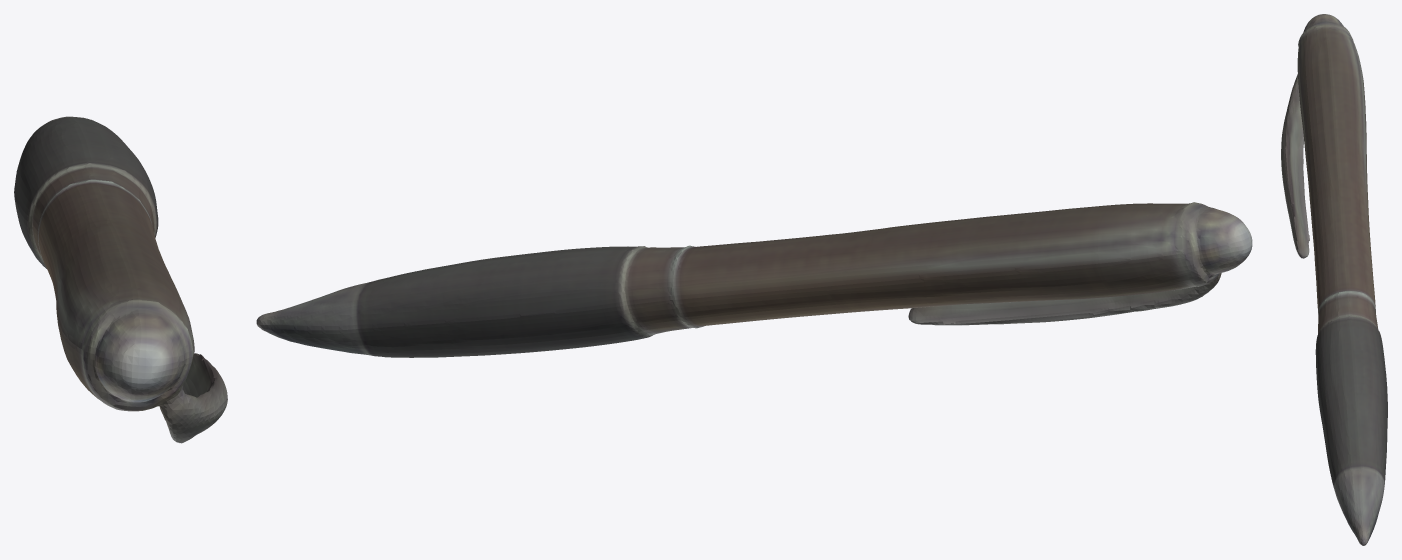
File: frame_0023_source_000023_object.glb
The picture shows the model from 3 angles, left to right: view 1: azimuth 90°, elevation 25°; view 2: azimuth 150°, elevation 25°; view 3: azimuth 270°, elevation 25°; orthographic projection. The views are drawn at different scales.
Parts seen in each view (by area): view 1: world; view 2: world; view 3: world.
Part boxes in pixels (x1,y1,x2,y2): world: (14,116,227,443); world: (256,202,1252,357); world: (1281,14,1387,545).
Bounding box in the file's own units: 0.1846 × 0.0598 × 0.0259.
